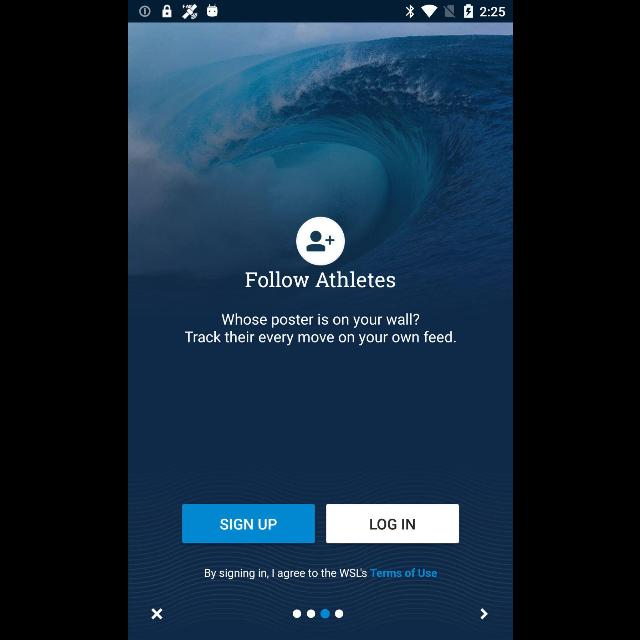backgroundimage: (128, 22, 512, 640)
icon: (296, 217, 344, 266), (150, 608, 162, 620), (479, 608, 487, 620)
pageindicator: (292, 609, 342, 619)
text: (183, 312, 454, 346), (204, 568, 436, 580), (244, 272, 394, 288)
textbutton: (326, 504, 458, 544), (182, 504, 314, 544)
uppertaskbar: (128, 1, 512, 23)
